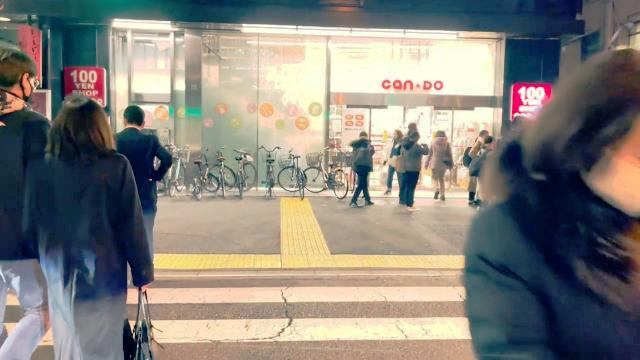berjalan: (452, 52, 640, 360), (29, 98, 151, 360), (340, 132, 378, 210)
